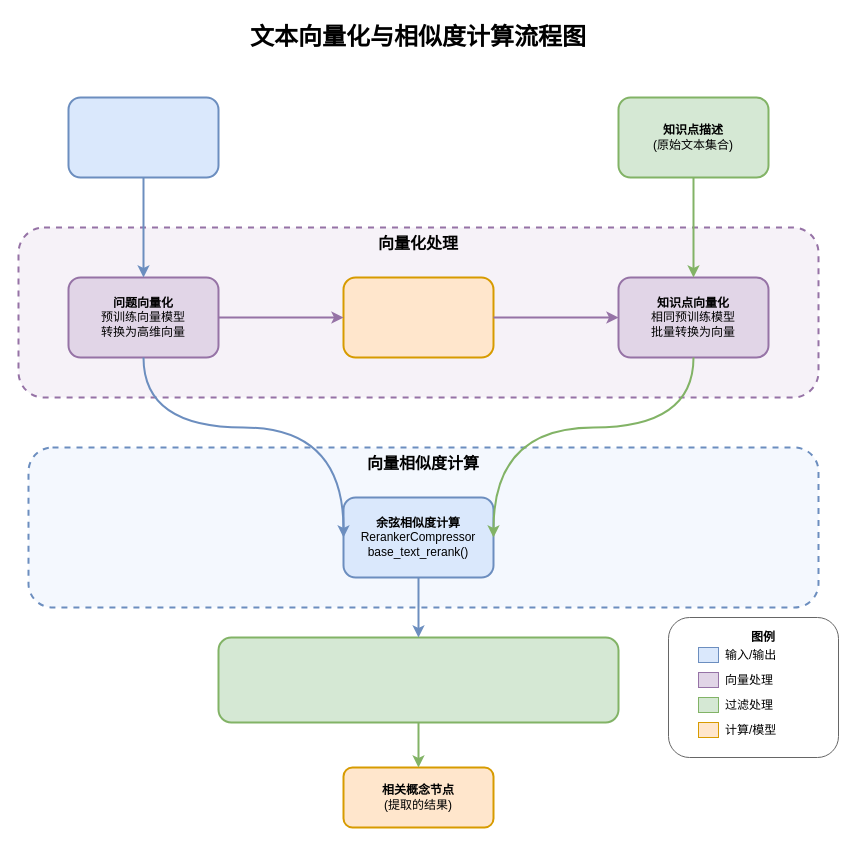
Some shapes in this 856 by 845 pixel diagram are drawn without their labels. The shapes that lost their labels are listed below. From the top down, each one's centre as x and y in pixels, then its label:
point 143,137: 用户问题 (原始文本)
point 418,317: 预训练向量模型 捕捉语义信息
point 418,679: 相似度阈值过滤 阈值: 0.48 筛选高相关度的概念节点
